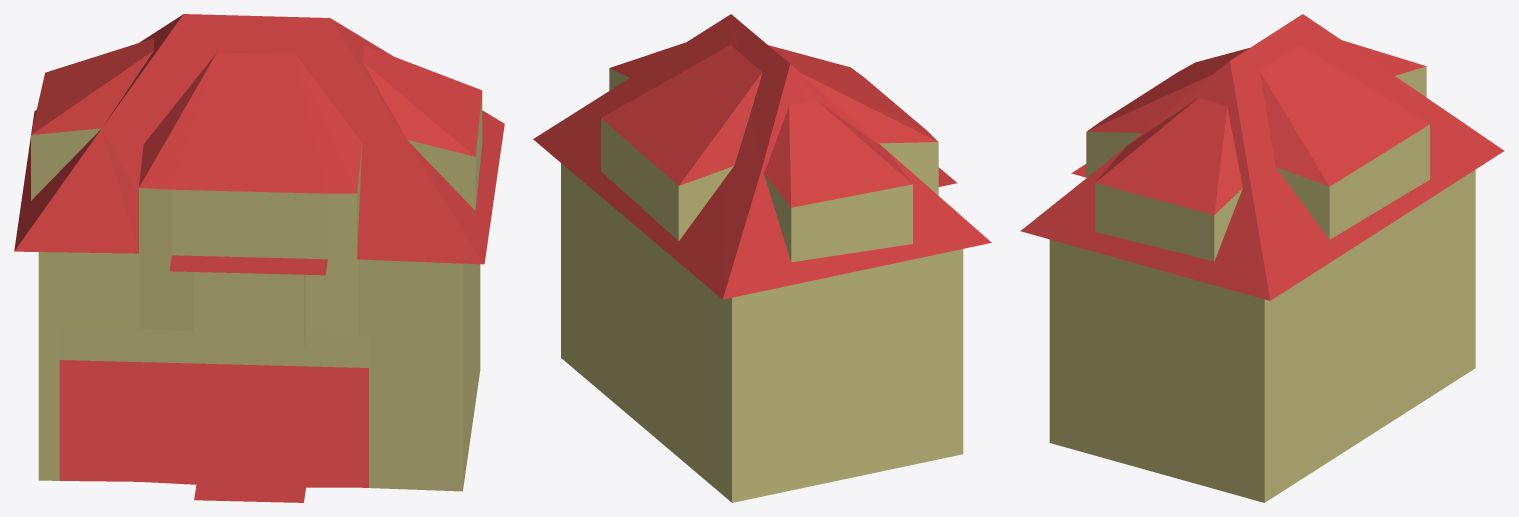
3 views of the same model, side by side, from view 1: azimuth 30°, elevation 25°; view 2: azimuth 150°, elevation 25°; view 3: azimuth 270°, elevation 25° (orthographic). The views are drawn at different scales.
Visible parts, largest first — view 1: group_13, group_3, group_14, group_6, group_7, group_8, group_10, group_12, group_11, group_9; view 2: group_13, group_3, group_4, group_10, group_12, group_11, group_5, group_6, group_7, group_8; view 3: group_13, group_3, group_4, group_8, group_12, group_5, group_9, group_6, group_7, group_10, group_11.
Part boxes in pixels (x1,y1,x2,y2): group_13: (38, 252, 480, 491); group_3: (14, 14, 504, 275); group_14: (59, 360, 368, 502); group_6: (139, 52, 362, 193); group_7: (139, 144, 362, 259); group_8: (362, 45, 482, 156); group_10: (31, 38, 154, 134); group_12: (14, 110, 504, 274); group_11: (31, 52, 152, 200); group_9: (364, 65, 482, 210); group_13: (561, 163, 963, 502); group_3: (561, 14, 990, 299); group_4: (601, 45, 762, 185); group_10: (764, 99, 912, 207); group_12: (533, 121, 991, 299); group_11: (764, 174, 912, 262); group_5: (601, 73, 762, 241); group_6: (768, 45, 937, 143); group_7: (879, 142, 938, 195); group_8: (609, 42, 685, 77); group_13: (1049, 170, 1475, 502); group_3: (1020, 14, 1504, 300); group_4: (1260, 45, 1429, 186); group_8: (1095, 98, 1242, 214); group_12: (1021, 134, 1502, 300); group_5: (1276, 124, 1429, 239); group_9: (1095, 183, 1242, 261); group_6: (1087, 48, 1249, 132); group_7: (1086, 131, 1141, 177); group_10: (1342, 40, 1426, 75); group_11: (1395, 66, 1426, 97).
Bounding box in the file's own units: 18.62 × 17.36 × 14.55.
